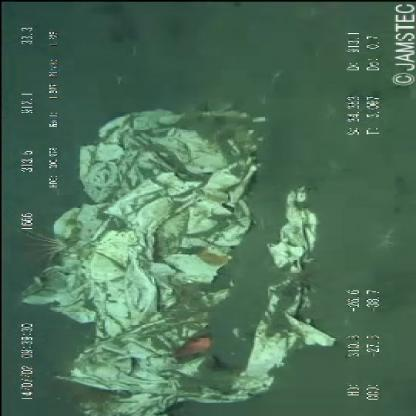Rác: (13, 97, 338, 413)
